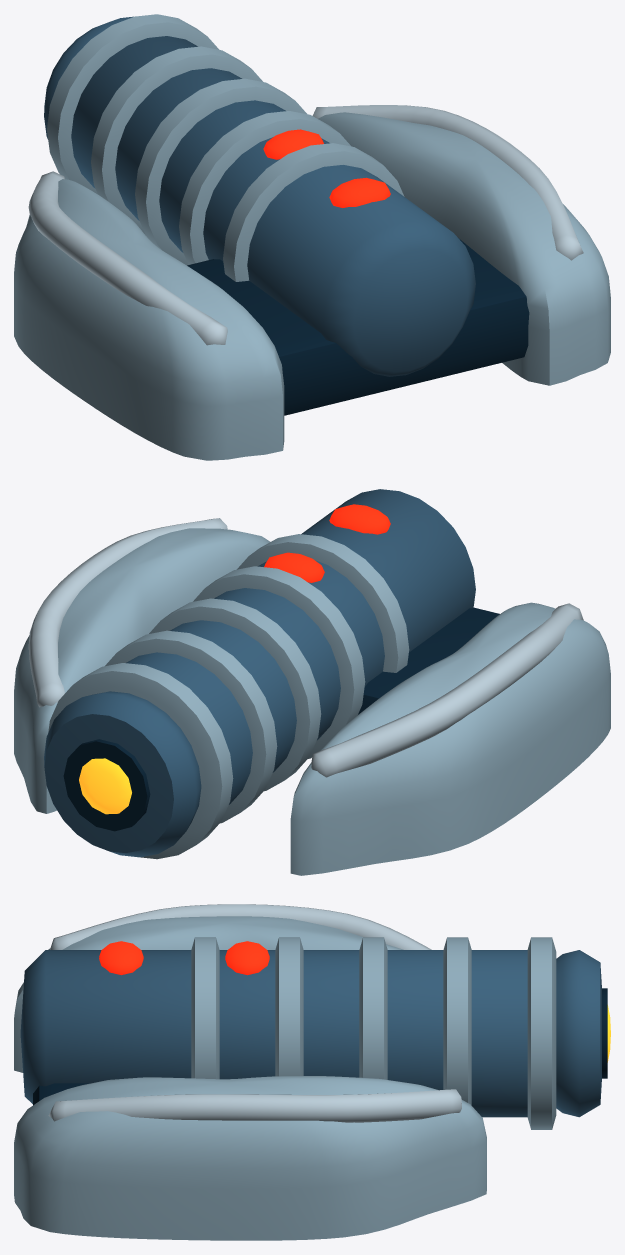
File: sk_zica_flame.glb
The picture shows the model from 3 angles, top to bottom: view 1: azimuth 30°, elevation 25°; view 2: azimuth 150°, elevation 25°; view 3: azimuth 270°, elevation 25°; orthographic projection. The views are drawn at different scales.
Visible parts, largest first — view 1: barrel, blade, blade.001, yoke, blade_edge, rib.002, rib, rib.001, rib.003, rib.004, blade_edge.001, lamp.001 (+1 smaller); view 2: blade, barrel, blade.001, blade_edge, rib, rib.002, rib.001, rib.003, blade_edge.001, rib.004, bore, yoke (+3 smaller); view 3: blade.001, barrel, blade_edge.001, blade, rib, blade_edge, rib.001, rib.004, rib.002, rib.003, lamp.001, lamp (+2 smaller).
Part boxes in pixels (box(x1,y1,x2,y2)): barrel: box(44, 16, 475, 376); blade: box(14, 179, 284, 460); blade.001: box(318, 112, 610, 385); yoke: box(187, 238, 529, 415); blade_edge: box(28, 171, 227, 345); rib.002: box(135, 78, 306, 265); rib: box(47, 14, 219, 194); rib.001: box(91, 46, 262, 235); rib.003: box(179, 111, 351, 264); rib.004: box(223, 143, 404, 281); blade_edge.001: box(312, 105, 583, 260); lamp.001: box(329, 177, 390, 207); blade: box(290, 602, 610, 875); barrel: box(44, 489, 475, 857); blade.001: box(14, 528, 270, 813); blade_edge: box(311, 603, 583, 777); rib: box(48, 663, 233, 859); rib.002: box(149, 598, 321, 791); rib.001: box(105, 630, 277, 823); rib.003: box(193, 566, 365, 758); blade_edge.001: box(28, 518, 227, 707); rib.004: box(237, 534, 409, 672); bore: box(63, 739, 150, 831); yoke: box(358, 607, 499, 714); blade.001: box(14, 1076, 486, 1240); barrel: box(20, 950, 601, 1117); blade_edge.001: box(48, 1089, 461, 1122); blade: box(14, 916, 403, 1072); rib: box(527, 937, 556, 1129); blade_edge: box(50, 904, 431, 949); rib.001: box(443, 937, 471, 1105); rib.004: box(191, 937, 219, 1079); rib.002: box(359, 937, 387, 1079); rib.003: box(275, 937, 303, 1076); lamp.001: box(99, 941, 143, 975); lamp: box(225, 941, 269, 975).
Size of the model in its own units: 12.18 by 4.9 by 14.21.
